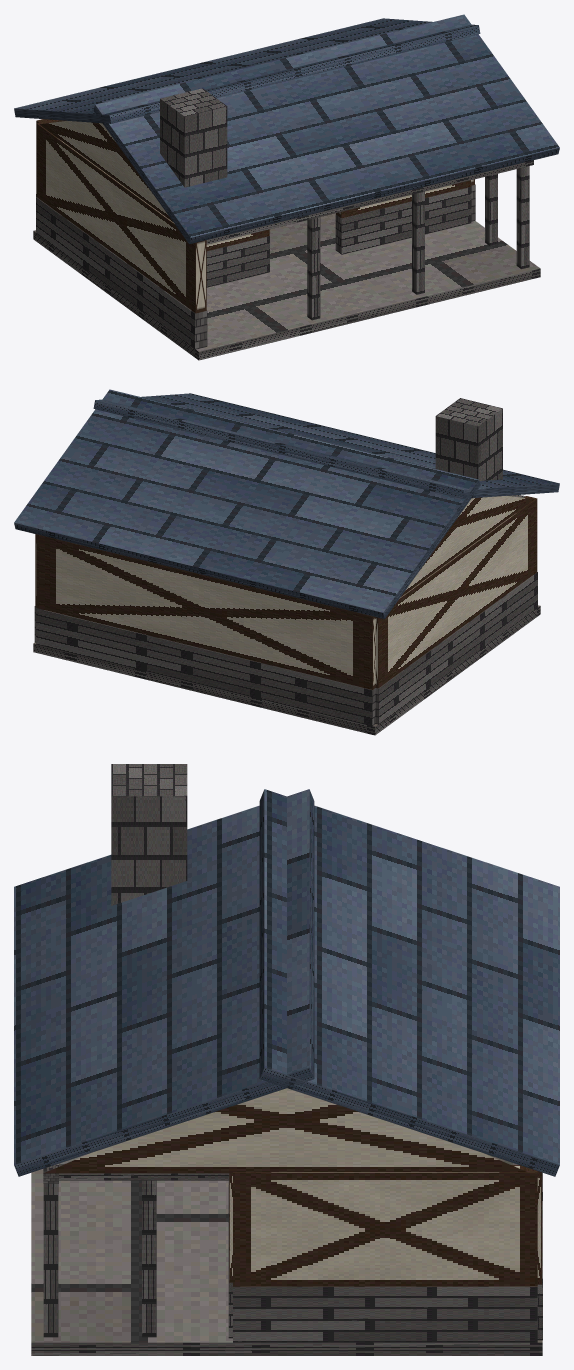
File: casa_do_ferreiro.glb
3 renders of one model, top to bottom at view 1: azimuth 30°, elevation 25°; view 2: azimuth 150°, elevation 25°; view 3: azimuth 270°, elevation 25°, orthographic. The views are drawn at different scales.
Visible parts, largest first — view 1: Roof_Structure, Walls_Armory, Floor_Stone_Forge, Forge_Porch_Posts; view 2: Roof_Structure, Walls_Armory, Floor_Stone_Forge; view 3: Roof_Structure, Walls_Armory, Floor_Stone_Forge, Forge_Porch_Posts.
Part boxes in pixels (x1=…): Roof_Structure: x1=14, y1=14, x2=559, y2=244; Walls_Armory: x1=36, y1=119, x2=475, y2=349; Floor_Stone_Forge: x1=33, y1=213, x2=540, y2=360; Forge_Porch_Posts: x1=206, y1=160, x2=533, y2=320; Roof_Structure: x1=14, y1=389, x2=559, y2=619; Walls_Armory: x1=34, y1=496, x2=537, y2=726; Floor_Stone_Forge: x1=33, y1=605, x2=540, y2=735; Roof_Structure: x1=14, y1=764, x2=559, y2=1176; Walls_Armory: x1=228, y1=1165, x2=542, y2=1342; Floor_Stone_Forge: x1=31, y1=1153, x2=542, y2=1355; Forge_Porch_Posts: x1=43, y1=1161, x2=229, y2=1337.
Bounding box in the file's own units: 13.4 × 7.7 × 11.11.
1 material, 1 textured.
